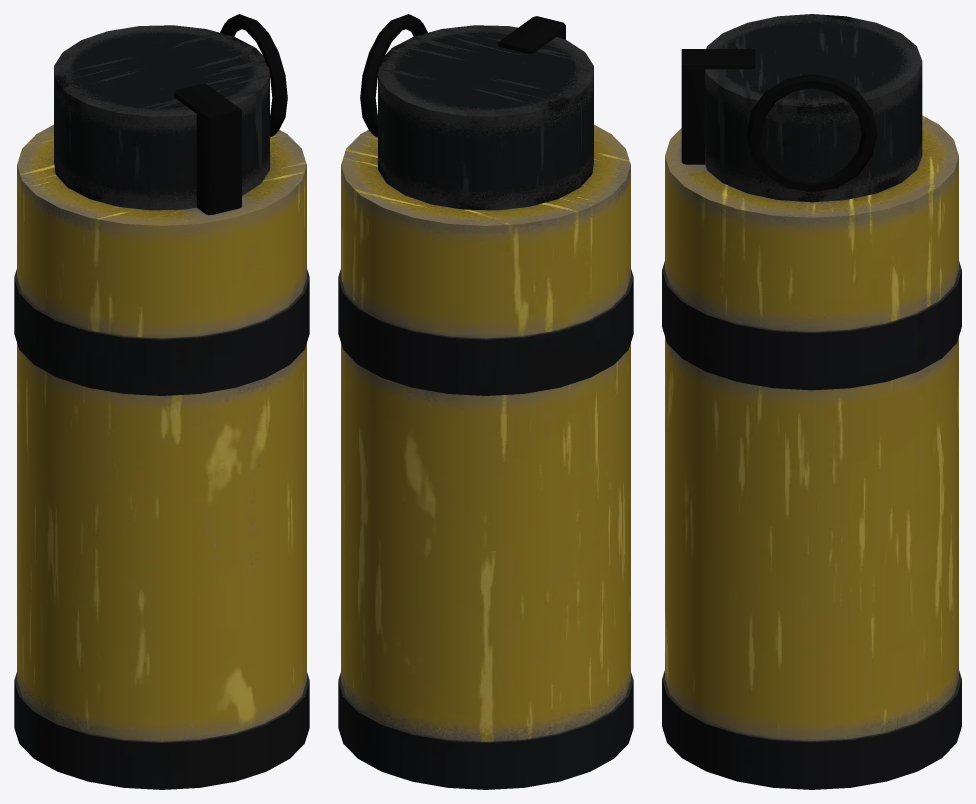
The model's file is decoy.glb.
3 views of the same model, side by side, from view 1: azimuth 30°, elevation 25°; view 2: azimuth 150°, elevation 25°; view 3: azimuth 270°, elevation 25° (orthographic).
Parts seen in each view (by area): view 1: body_metal, body_receiver; view 2: body_metal, body_receiver; view 3: body_metal, body_receiver.
Part boxes in pixels (<box>): body_metal: <box>14,14,309,789</box>; body_receiver: <box>54,25,269,210</box>; body_metal: <box>338,14,633,789</box>; body_receiver: <box>378,25,593,210</box>; body_metal: <box>662,49,961,789</box>; body_receiver: <box>705,14,922,202</box>.
Size of the model in its own units: 0.0571 by 0.1465 by 0.0571.
2 materials, 2 textured.
